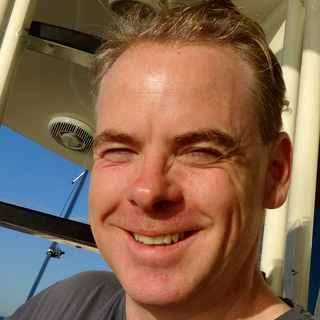eye: (179, 141, 229, 164), (98, 140, 141, 163)
